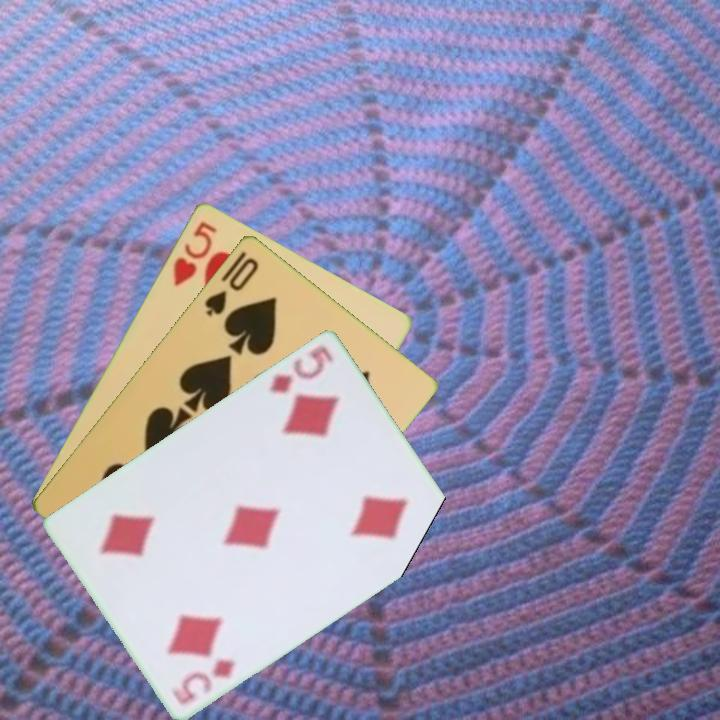10s: (200, 253, 262, 319)
5d: (265, 341, 336, 396), (168, 654, 239, 707)
5h: (169, 217, 220, 289)
